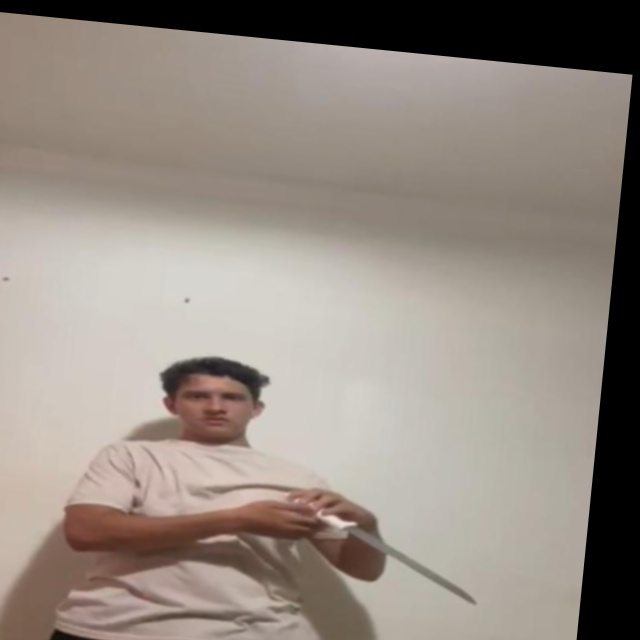Sharp-Object: (337, 524, 480, 606)
